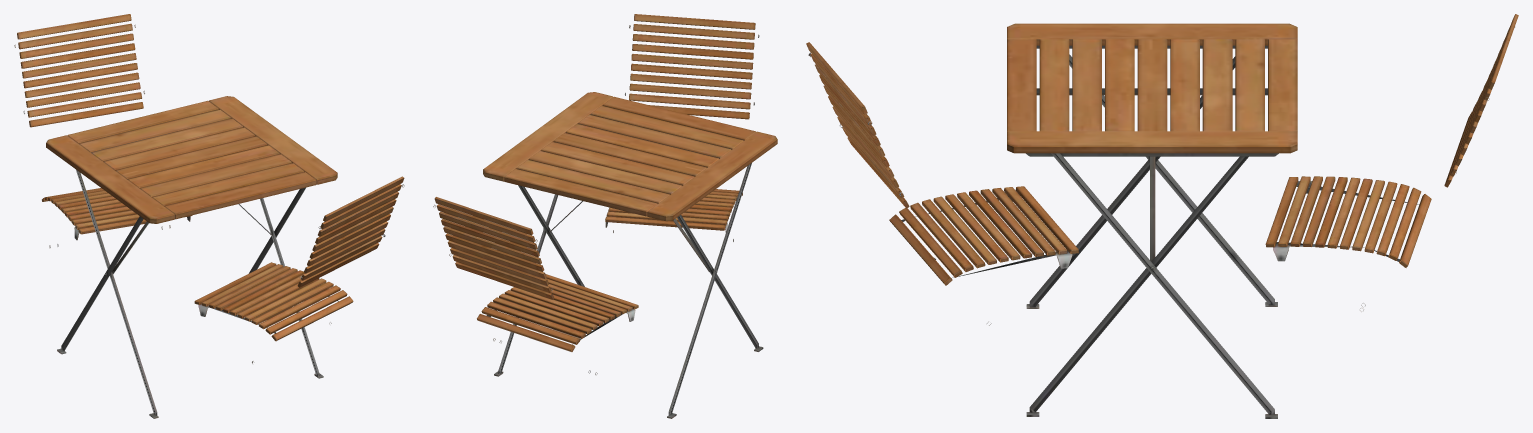
Rendered from terrasse_cafe_lod1.glb.
The picture shows the model from 3 angles, left to right: view 1: azimuth 30°, elevation 25°; view 2: azimuth 150°, elevation 25°; view 3: azimuth 270°, elevation 25°; orthographic projection. The views are drawn at different scales.
Visible parts, largest first — view 1: outdoor_table_chair_set_01_table, outdoor_table_chair_set_01_chair_01; view 2: outdoor_table_chair_set_01_table, outdoor_table_chair_set_01_chair_01; view 3: outdoor_table_chair_set_01_table, outdoor_table_chair_set_01_chair_01.
Part boxes in pixels (x1,y1,x2,y2): outdoor_table_chair_set_01_table: (46,96,337,418); outdoor_table_chair_set_01_chair_01: (14,14,404,363); outdoor_table_chair_set_01_table: (483,92,777,418); outdoor_table_chair_set_01_chair_01: (433,14,759,375); outdoor_table_chair_set_01_table: (1007,23,1297,418); outdoor_table_chair_set_01_chair_01: (806,14,1518,325).
Size of the model in its own units: 0.738 by 0.8468 by 1.7.
2 materials, 2 textured.
